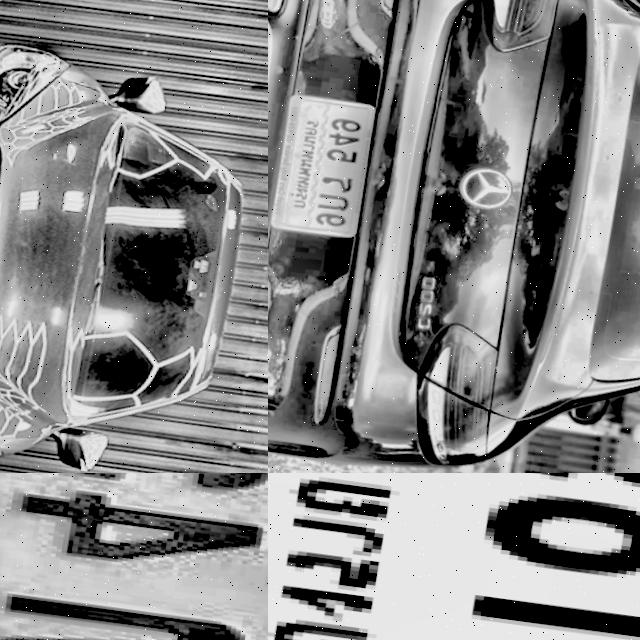license-plate: (268, 473, 640, 640), (0, 473, 268, 640), (268, 87, 380, 242)
